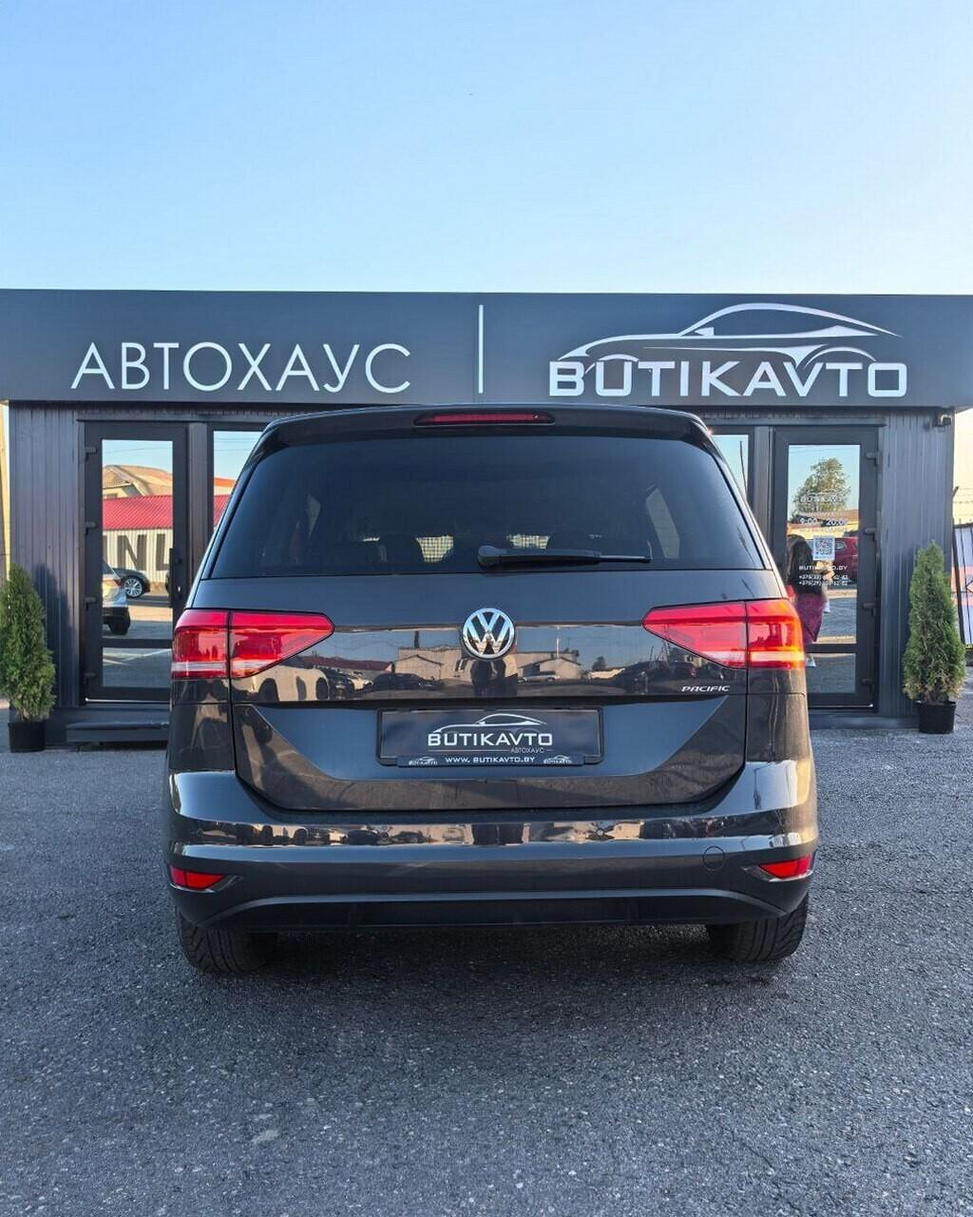Touran_2015: (147, 399, 822, 982)
